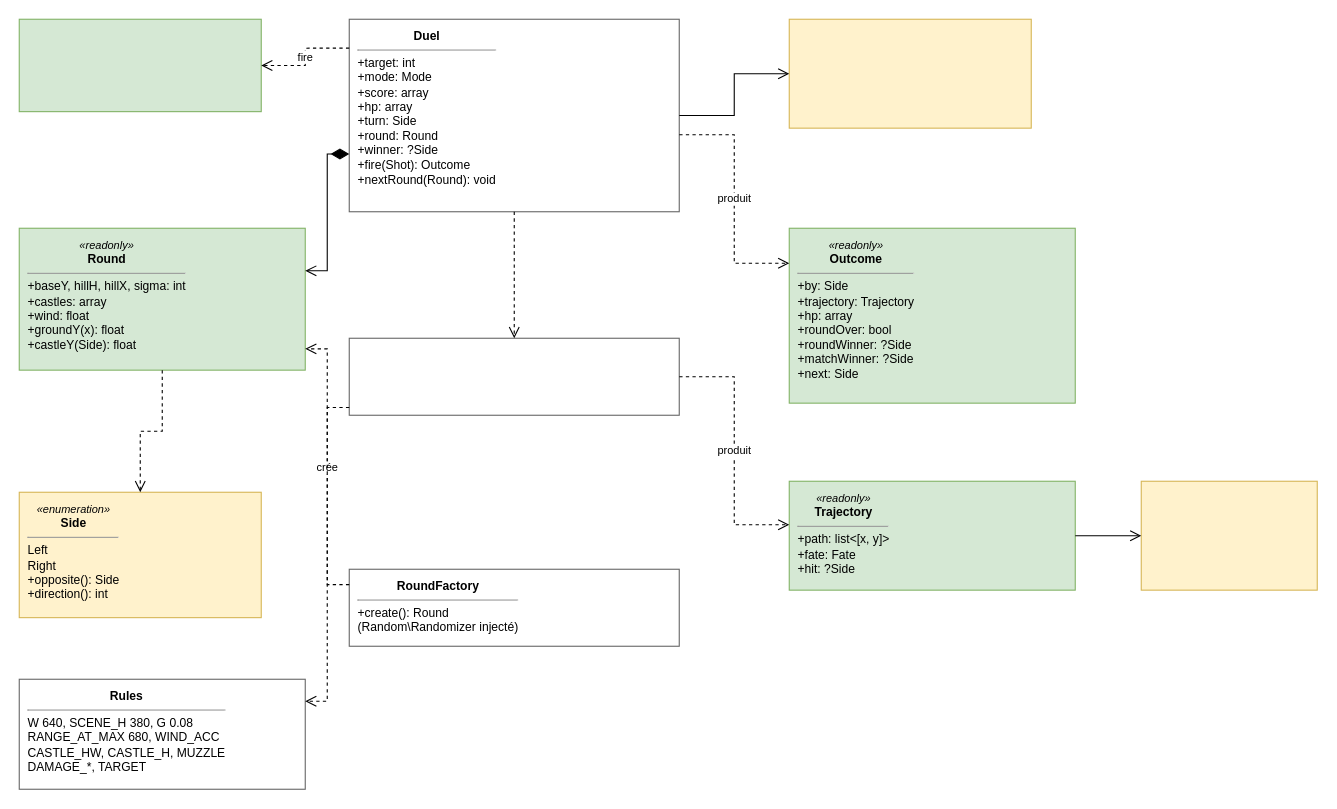
Image size: 1337x809. Some labels were removed from this diagram. The centre of each missing label's shape, as x and y in pixels:
"Ballistics +fly(Round, Side, Shot): Trajectory +muzzle(Round, Side, angle)" goes at point 513,376.
"«enumeration» Fate Castle Ground Out" goes at point 1228,535.
"«enumeration» Mode Classic (1 impact) Health (3 impacts) +damage(): int" goes at point 909,73.
"«readonly» Shot +angle: int (0-90) +powder: int (0-400)" goes at point 139,65.
